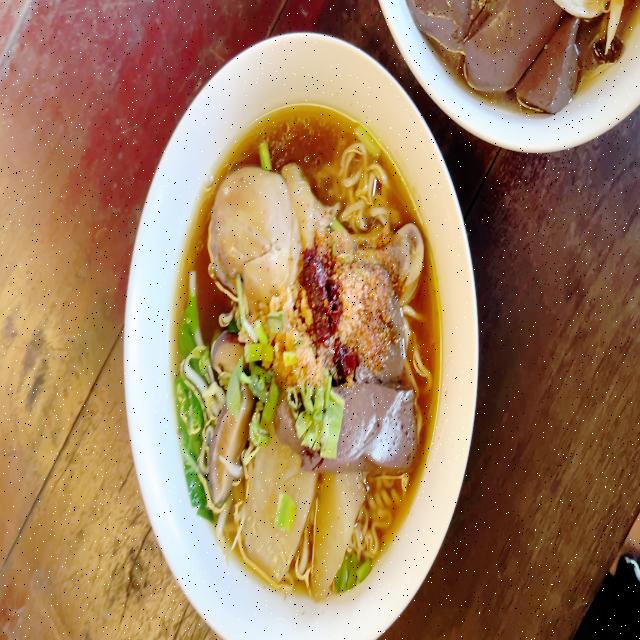boiled_chicken_blood_jelly: (408, 0, 579, 113), (343, 385, 410, 469), (384, 290, 404, 383), (272, 385, 299, 444)
chicken_drumstick: (206, 166, 426, 304)
daikon_radish: (250, 454, 364, 580)
noodle: (188, 121, 430, 591)
